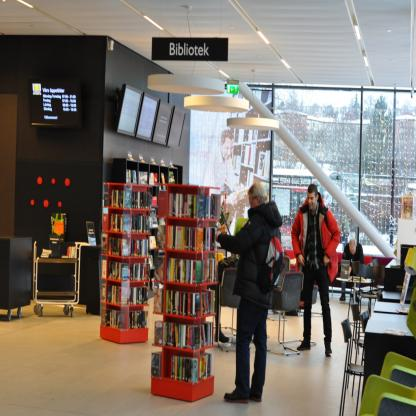book: (166, 195, 217, 380), (104, 191, 152, 331), (169, 355, 172, 378)
